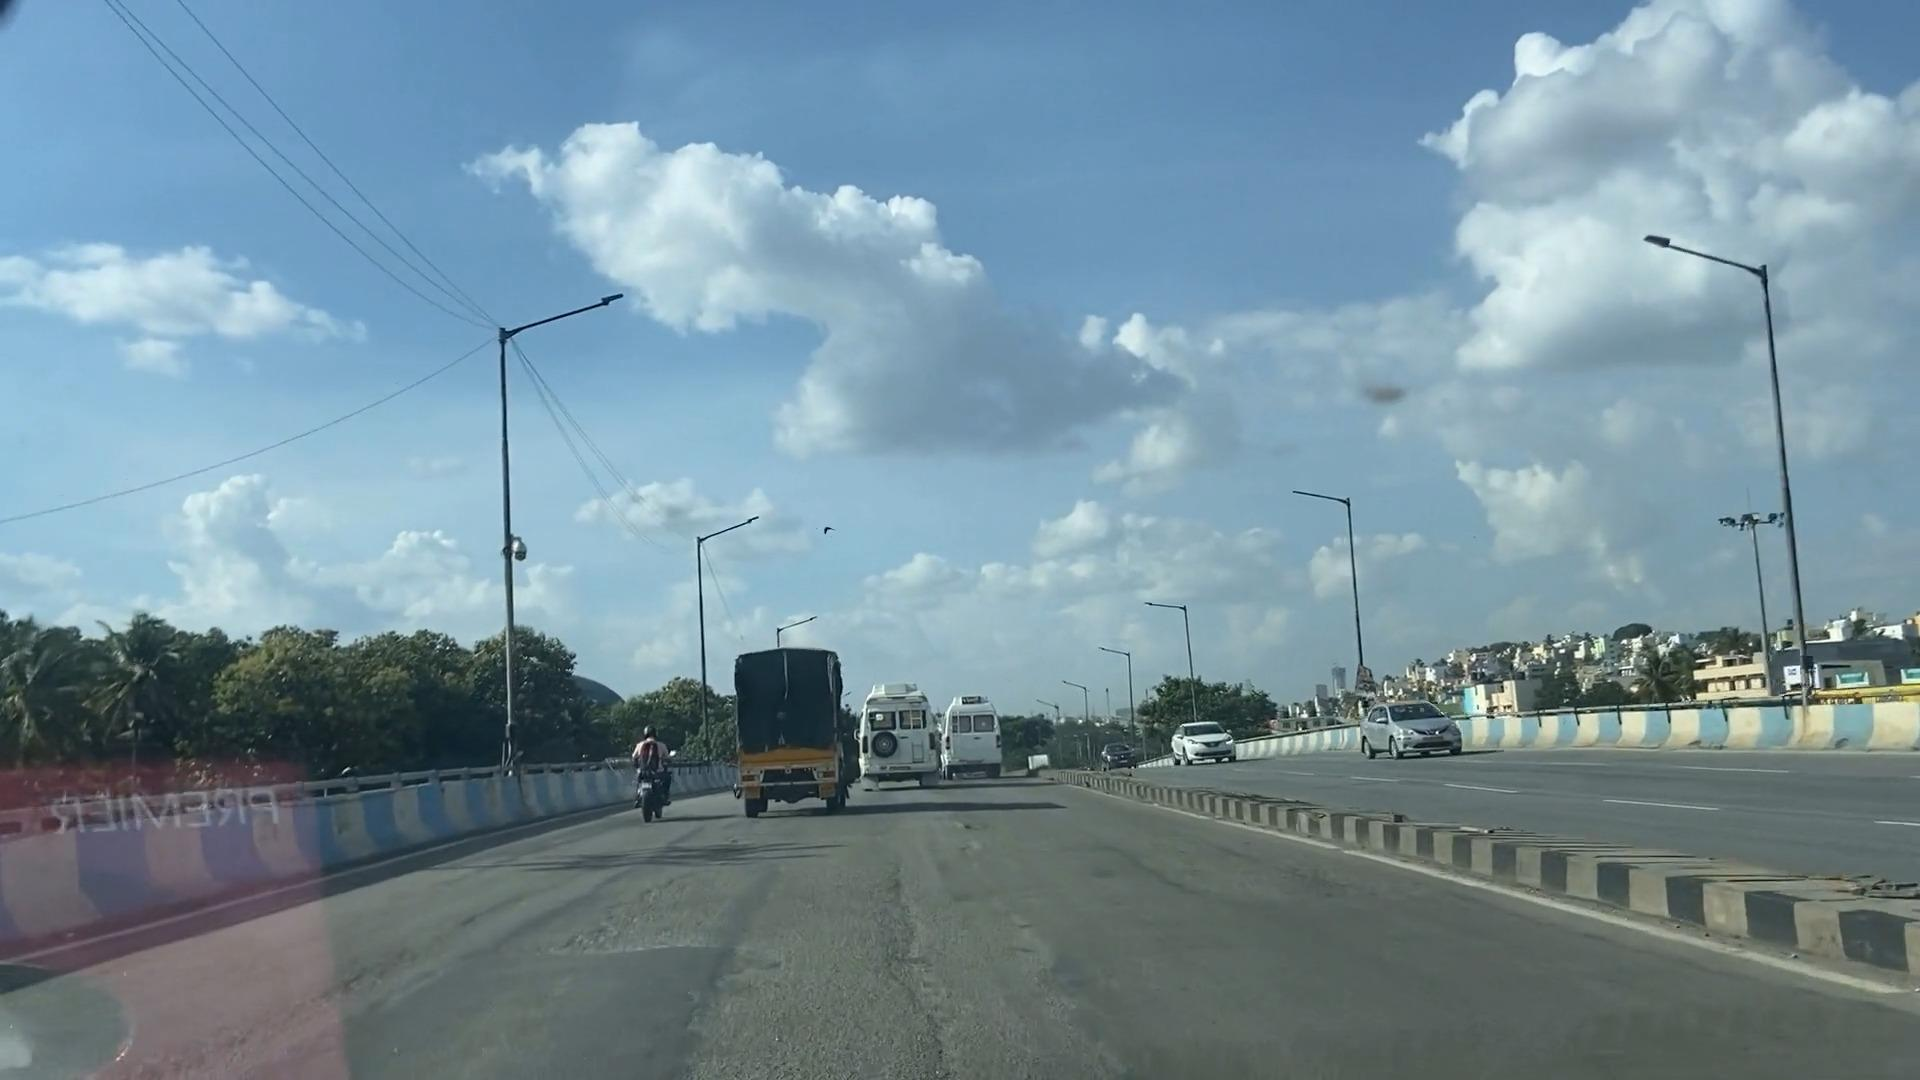HMV: (736, 633, 868, 828), (862, 684, 955, 787), (943, 692, 1007, 779)
LMV: (629, 716, 686, 831)
RoadDamages: (447, 902, 1163, 1080)
